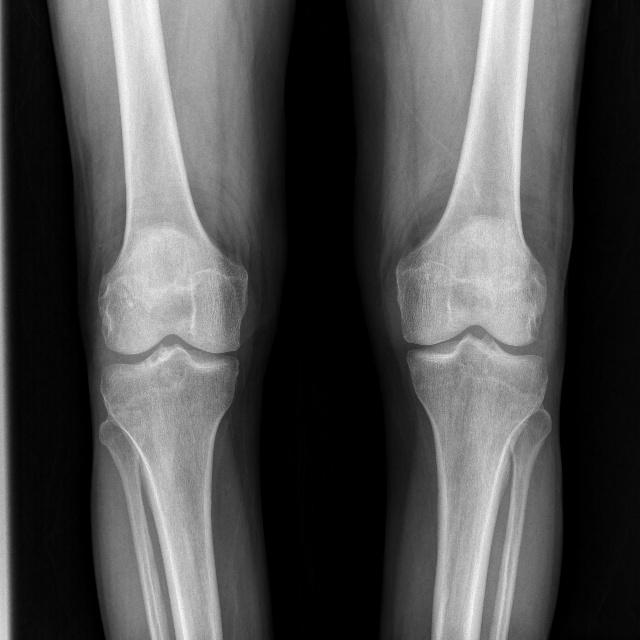Knee: (390, 278, 549, 418), (93, 285, 248, 421)
